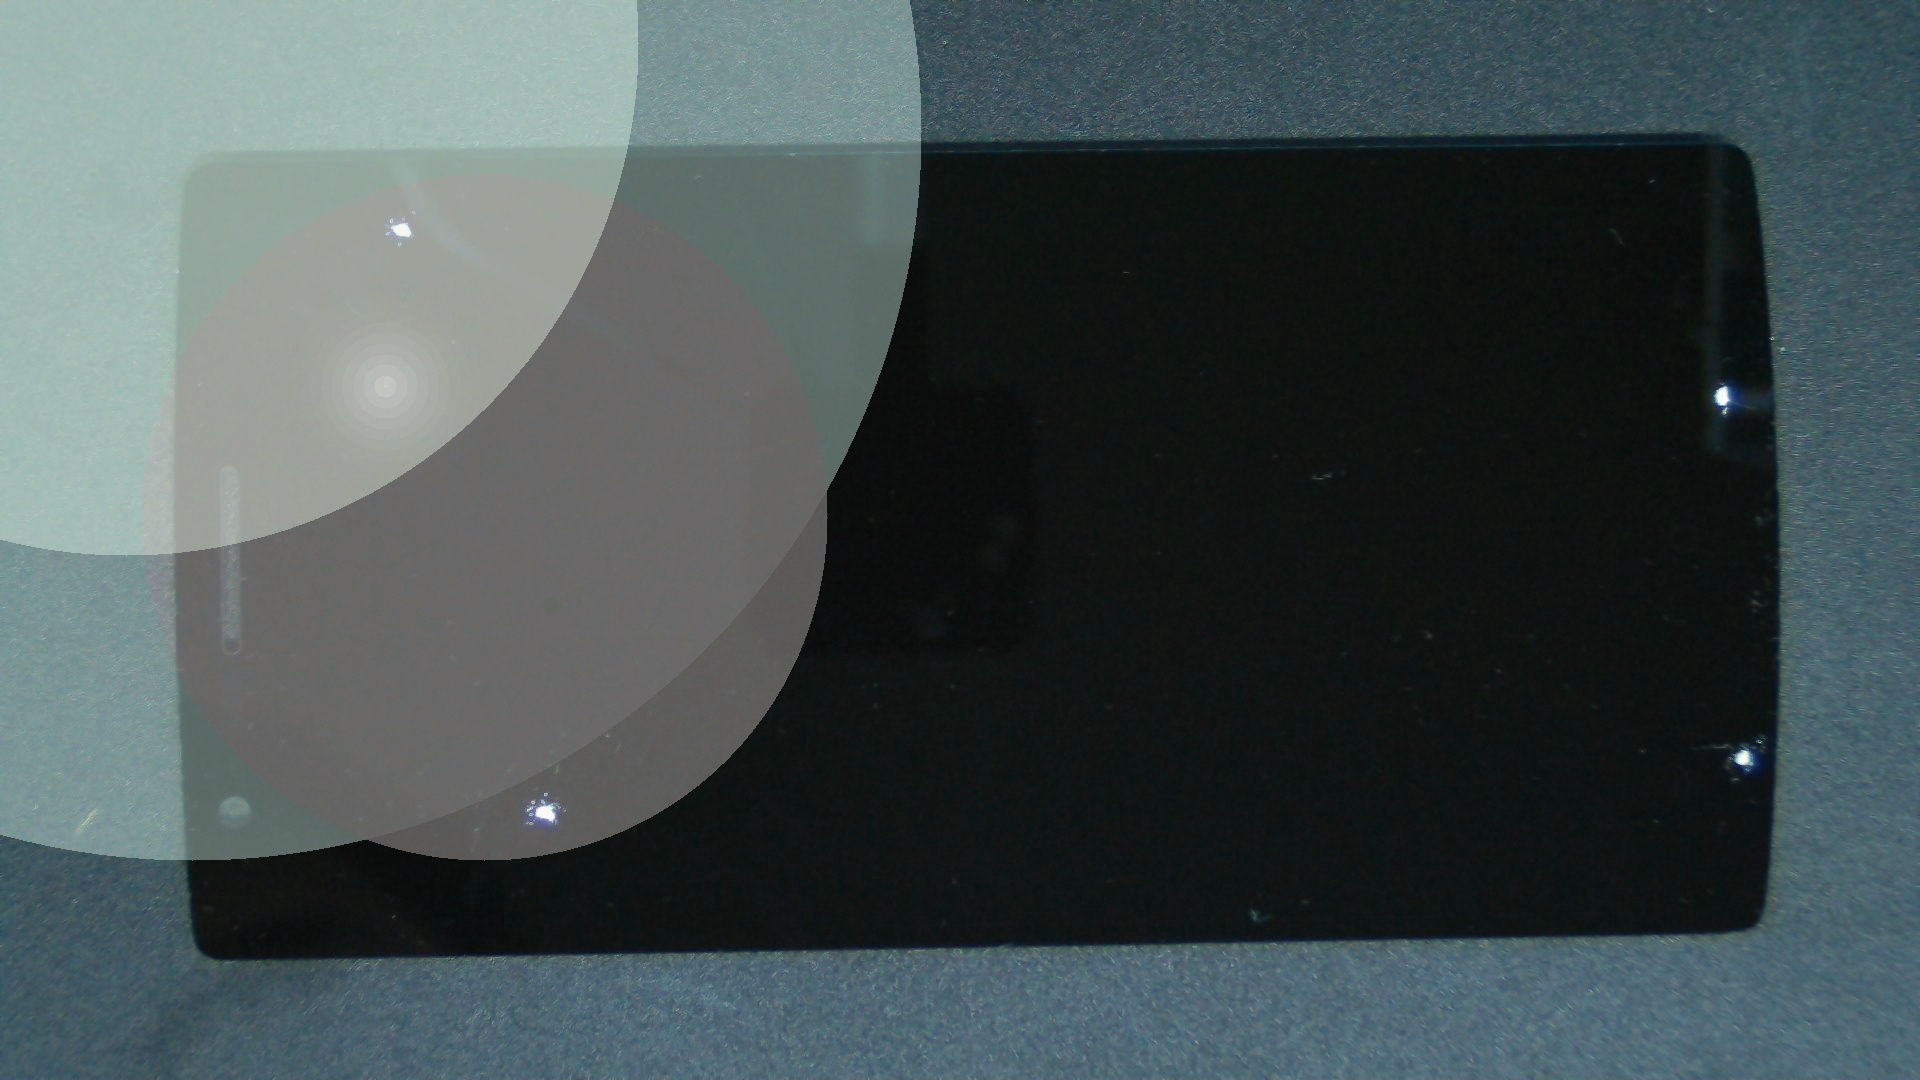oil: (881, 367, 1920, 1080), (861, 190, 1920, 572), (272, 396, 816, 1080), (206, 103, 618, 316), (196, 108, 585, 326)
